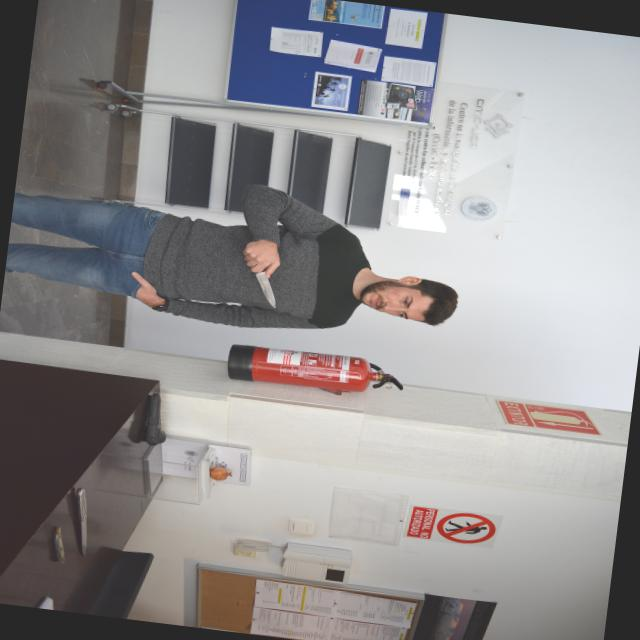knife: (247, 261, 284, 311)
